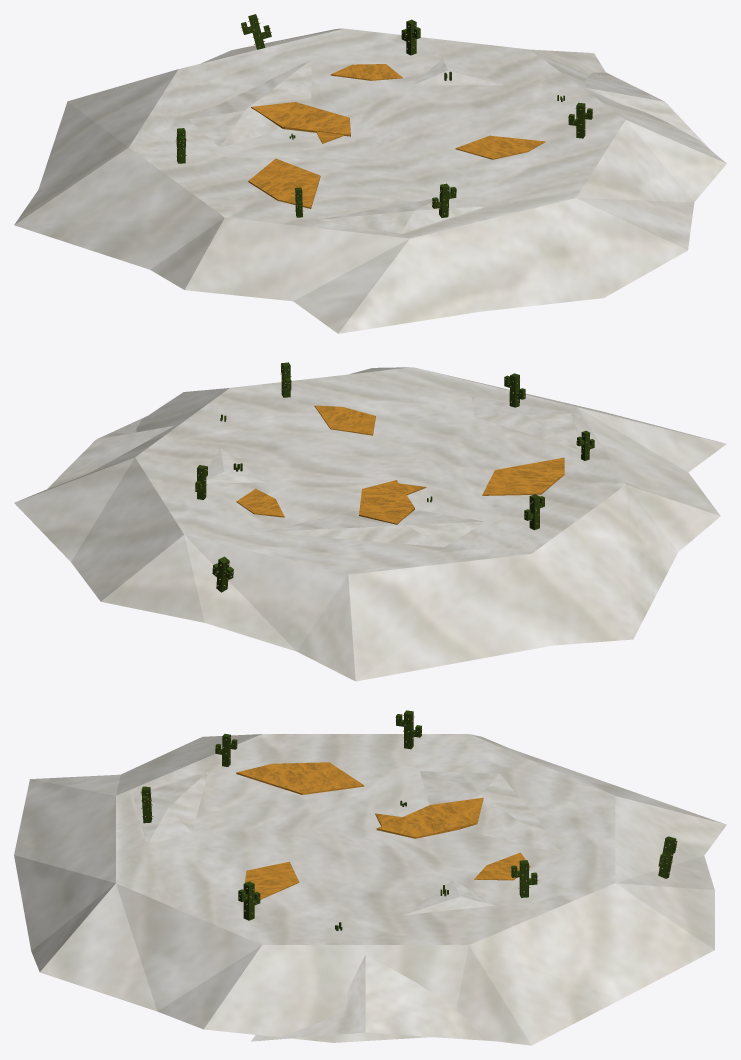
The model's file is Map_03.fbx.
The picture shows the model from 3 angles, top to bottom: view 1: azimuth 30°, elevation 25°; view 2: azimuth 150°, elevation 25°; view 3: azimuth 270°, elevation 25°; orthographic projection. The views are drawn at different scales.
Visible parts, largest first — view 1: Map_03; view 2: Map_03; view 3: Map_03.
Boxes of the visible parts, x1,y1,x2,y2 form: Map_03: (14,14,726,333); Map_03: (14,362,726,681); Map_03: (14,710,726,1045).
Bounding box in the file's own units: 7509 × 1196 × 7125.
